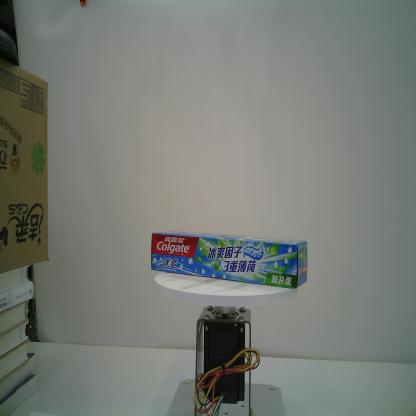Personal Hygiene: (151, 231, 308, 289)
